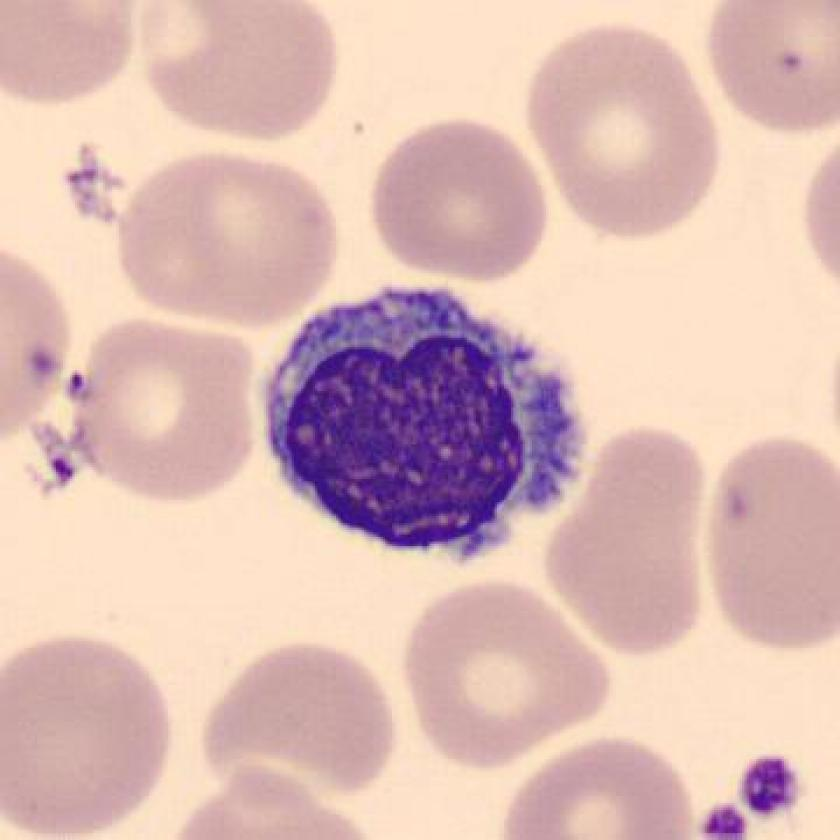lymphocyte: (251, 269, 594, 575)
platelets: (738, 750, 810, 818), (698, 796, 752, 840)
